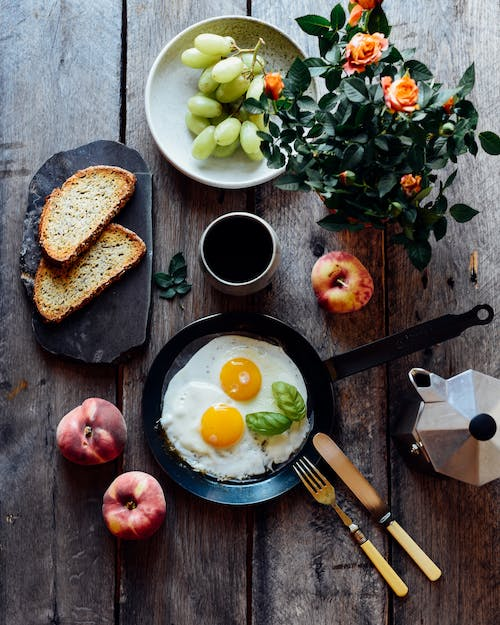knife: (310, 430, 444, 585)
